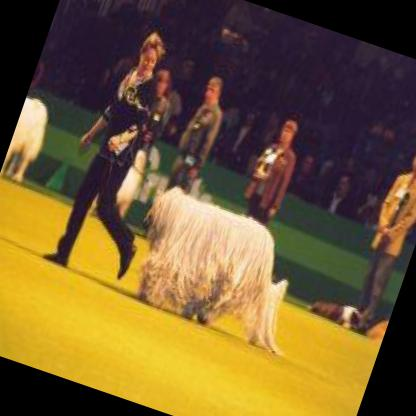komondor: (116, 176, 324, 358)
